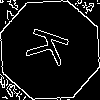K: (25, 25, 79, 72)
